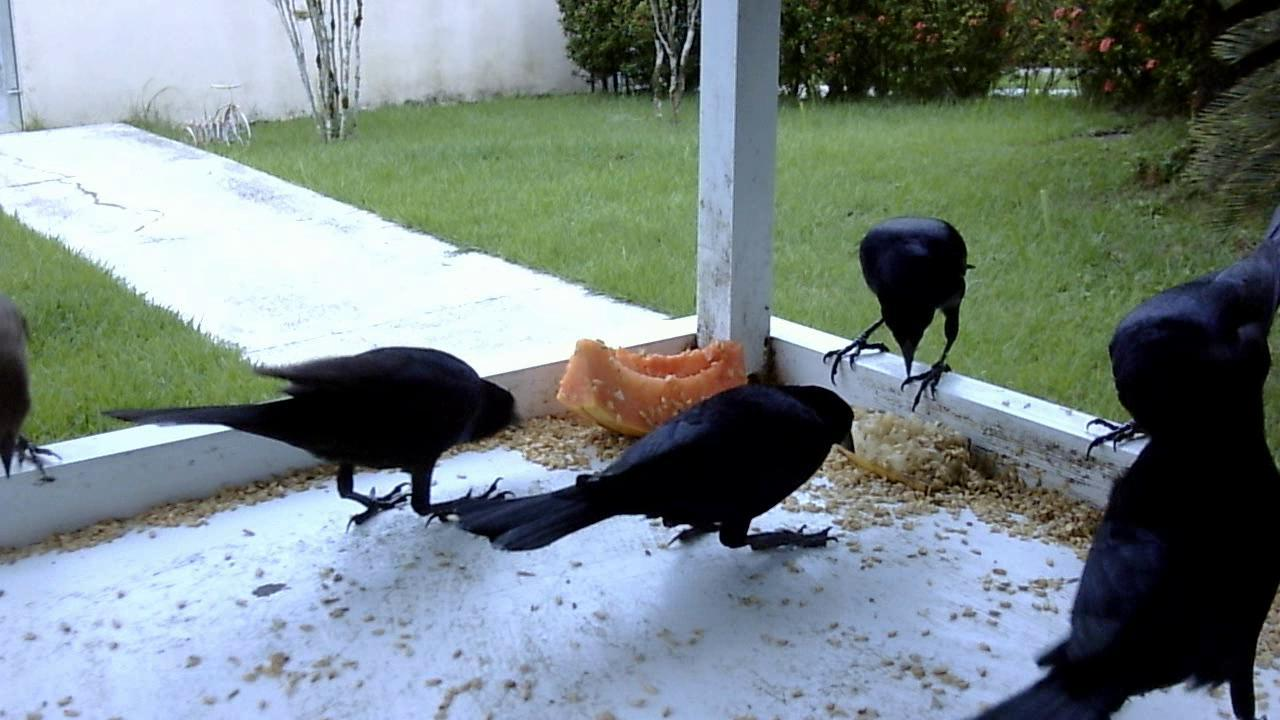chupim: (984, 341, 1272, 720), (93, 327, 543, 549), (424, 374, 873, 568), (1059, 226, 1273, 549), (821, 212, 971, 423)
